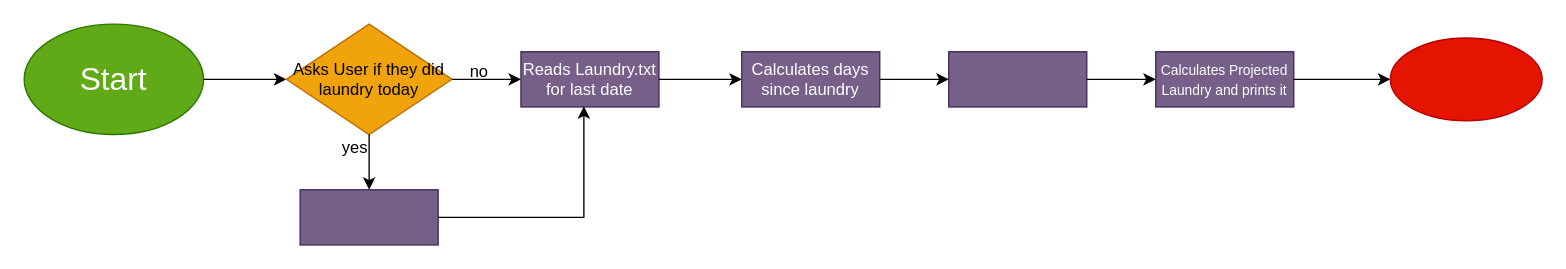
This 1566x269 diagram has some shape labels left out. The shapes that lost their labels are listed below. From the top down, each one's centre as x and y in pixels, then its label:
the point at 1017,78: Prints days since laundry
the point at 1465,79: End
the point at 368,216: store date in Laundry.txt
